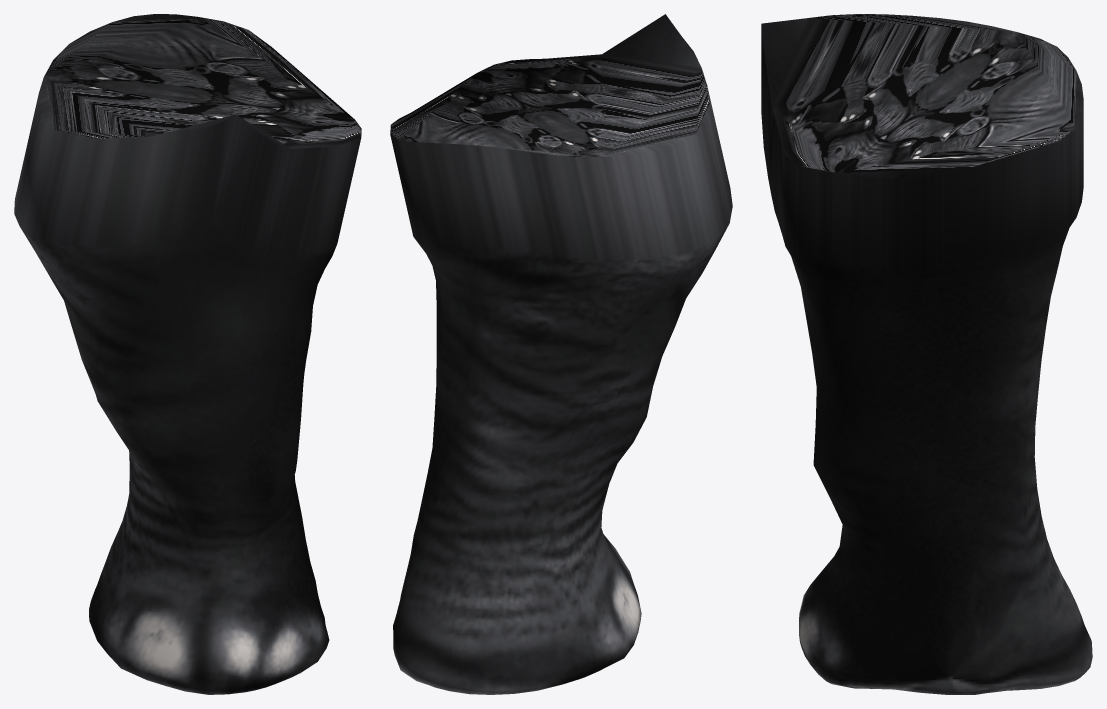
File: B_LeftLegRhino.obj
3 renders of one model, left to right at view 1: azimuth 30°, elevation 25°; view 2: azimuth 150°, elevation 25°; view 3: azimuth 270°, elevation 25°, orthographic. The views are drawn at different scales.
Parts seen in each view (by area): view 1: Rhino_Quad.004; view 2: Rhino_Quad.004; view 3: Rhino_Quad.004.
Part boxes in pixels (x1=…): Rhino_Quad.004: x1=14, y1=14, x2=361, y2=694; Rhino_Quad.004: x1=390, y1=14, x2=732, y2=694; Rhino_Quad.004: x1=761, y1=14, x2=1092, y2=694.
Bounding box in the file's own units: 0.4221 × 0.8371 × 0.4087.
Materials: 1 (1 with a texture image).
